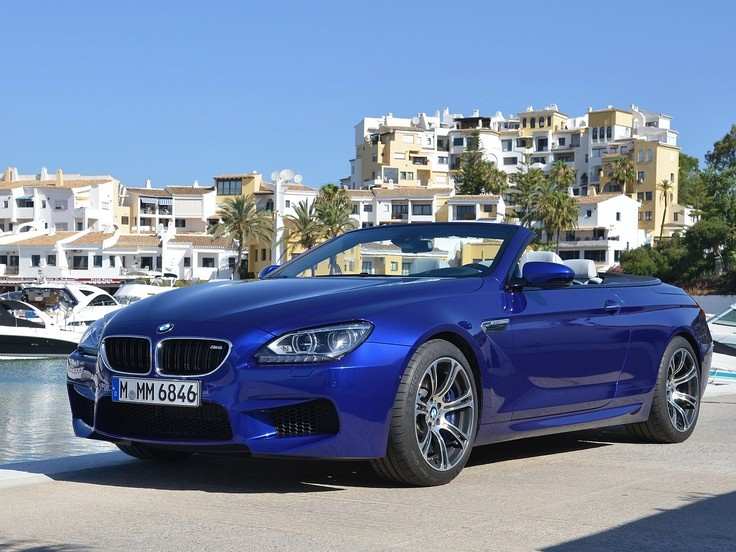car: (58, 220, 718, 477)
